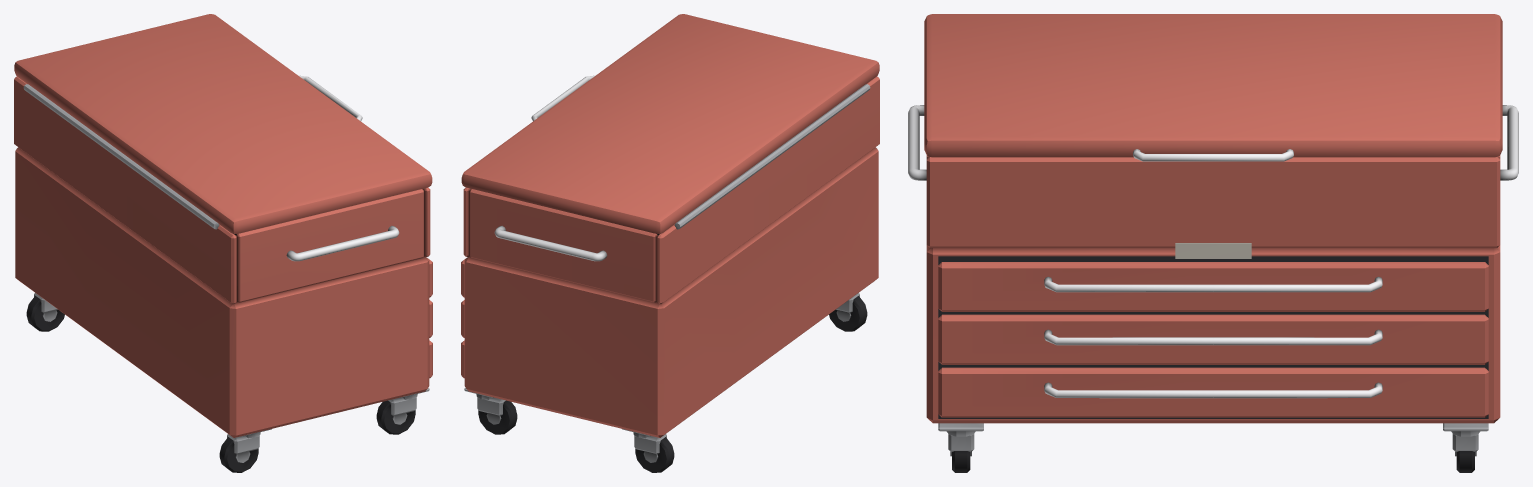
The model's file is toolbox.glb.
3 views of the same model, side by side, from view 1: azimuth 30°, elevation 25°; view 2: azimuth 150°, elevation 25°; view 3: azimuth 270°, elevation 25° (orthographic). The views are drawn at different scales.
Parts seen in each view (by area): view 1: PART, LID; view 2: PART, LID; view 3: LID, PART, DRAWER_2, DRAWER_3, DRAWER_1.
Part boxes in pixels (bbox=[...]): PART: bbox=[14, 76, 430, 472]; LID: bbox=[14, 14, 432, 233]; PART: bbox=[463, 76, 879, 472]; LID: bbox=[461, 14, 879, 233]; LID: bbox=[924, 14, 1502, 161]; PART: bbox=[908, 105, 1518, 472]; DRAWER_2: bbox=[938, 314, 1488, 364]; DRAWER_3: bbox=[938, 367, 1488, 417]; DRAWER_1: bbox=[938, 262, 1488, 311].
Size of the model in its own units: 0.4465 by 0.5 by 0.799.
